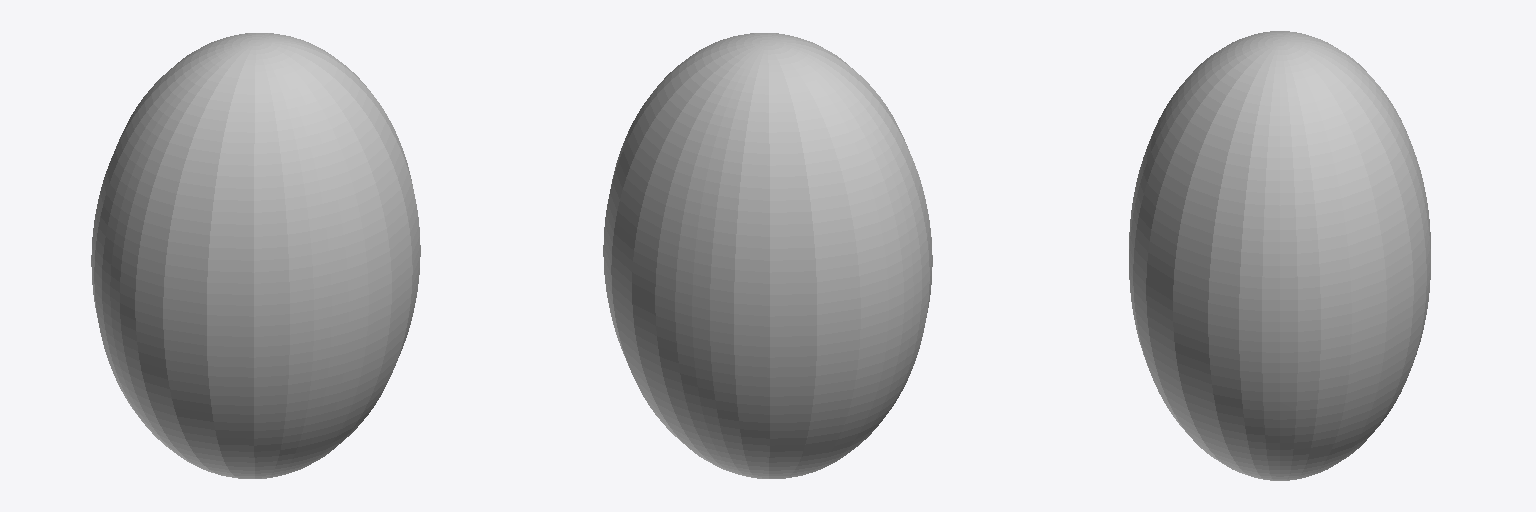
File: planet2.obj
3 views of the same model, side by side, from view 1: azimuth 30°, elevation 25°; view 2: azimuth 150°, elevation 25°; view 3: azimuth 270°, elevation 25° (orthographic).
Parts seen in each view (by area): view 1: Planet2_SurfSphere.002; view 2: Planet2_SurfSphere.002; view 3: Planet2_SurfSphere.002.
Boxes of the visible parts, box(x1,y1,x2,y2) form: Planet2_SurfSphere.002: box(91, 33, 420, 478); Planet2_SurfSphere.002: box(603, 33, 932, 478); Planet2_SurfSphere.002: box(1129, 31, 1430, 480).
Bounding box in the file's own units: 600 × 840 × 540.